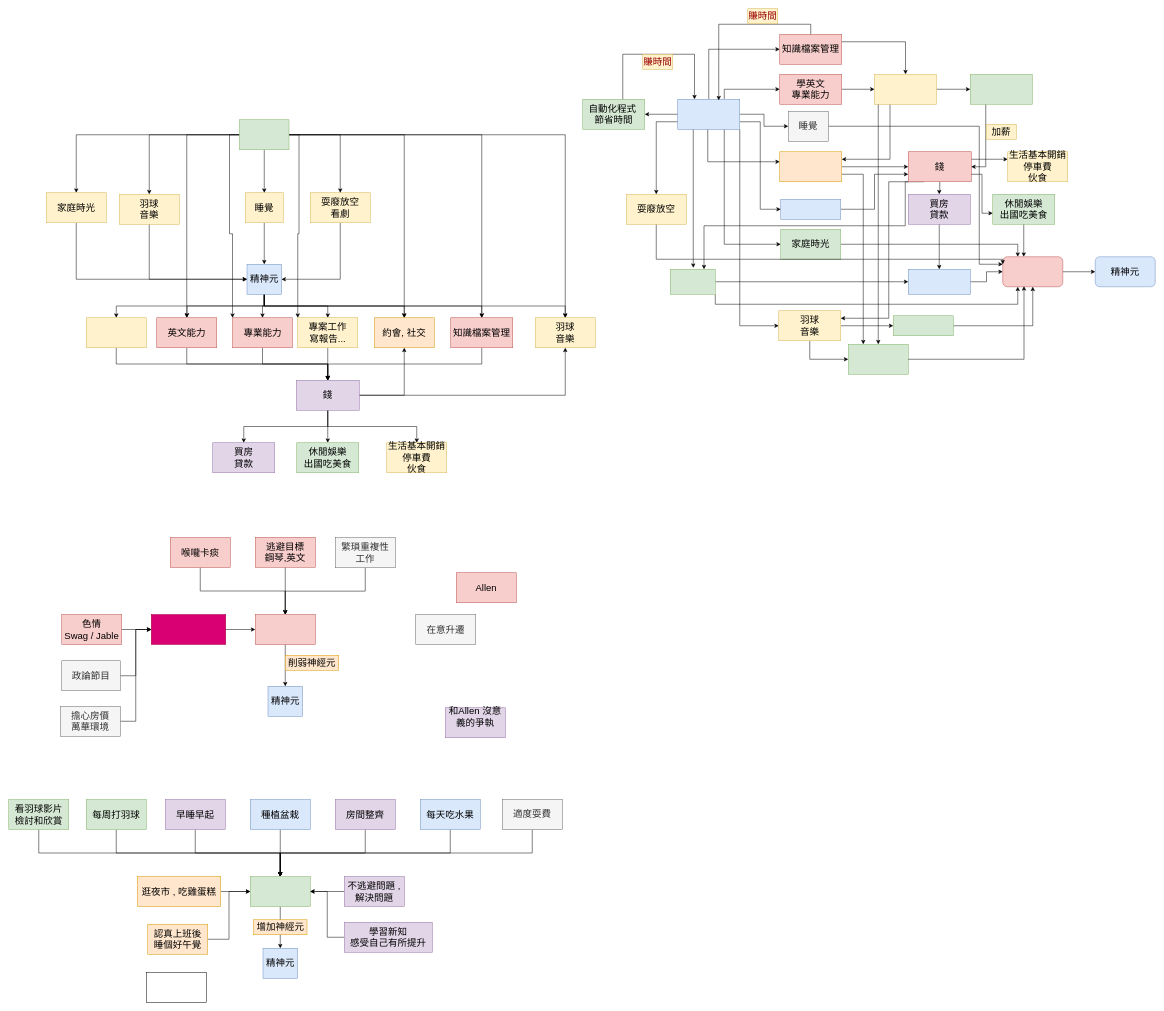
This 1164x1011 diagram has some shape labels left out. The box of each missing label's shape, as (x1, y1, x2, y2) in pixels:
上班工作: (779, 151, 842, 182)
太晚睡, 熬夜 睡眠不足: (151, 614, 226, 644)
工作核心能力提升: (874, 74, 936, 104)
幸福快樂: (1002, 256, 1063, 287)
情緒控管: (86, 317, 146, 348)
成就感: (848, 344, 908, 374)
投資理財 繼承: (780, 199, 841, 219)
換工作 穩定工作 升遷: (970, 74, 1032, 104)
時間: (239, 119, 289, 150)
時間 , 精神元: (677, 99, 740, 129)
正向精神元: (250, 876, 310, 906)
約會: (670, 269, 715, 294)
結婚生子: (908, 269, 970, 294)
負向精神元: (255, 614, 315, 644)
身心健康: (893, 315, 953, 336)
